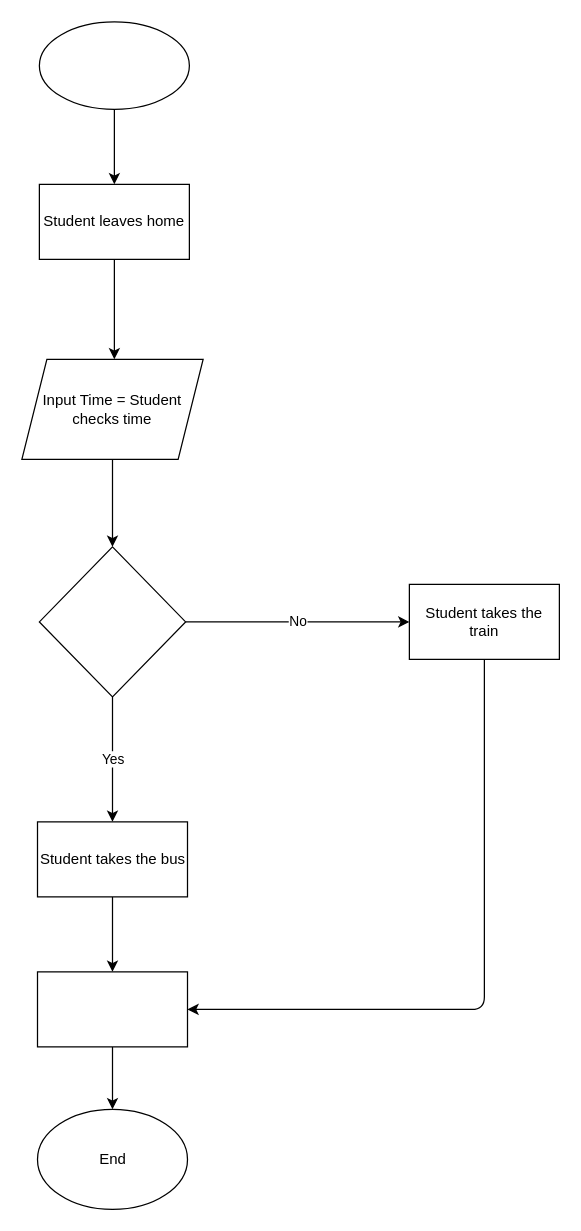
The diagram is 581 pixels wide and 1231 high, and some of its shapes have lost their labels. The box of each missing label's shape, as (x1, y1, x2, y2) in pixels:
Start: (38, 21, 189, 109)
Student arrives at school: (36, 971, 188, 1047)
Time before 7am ?: (38, 546, 186, 697)
